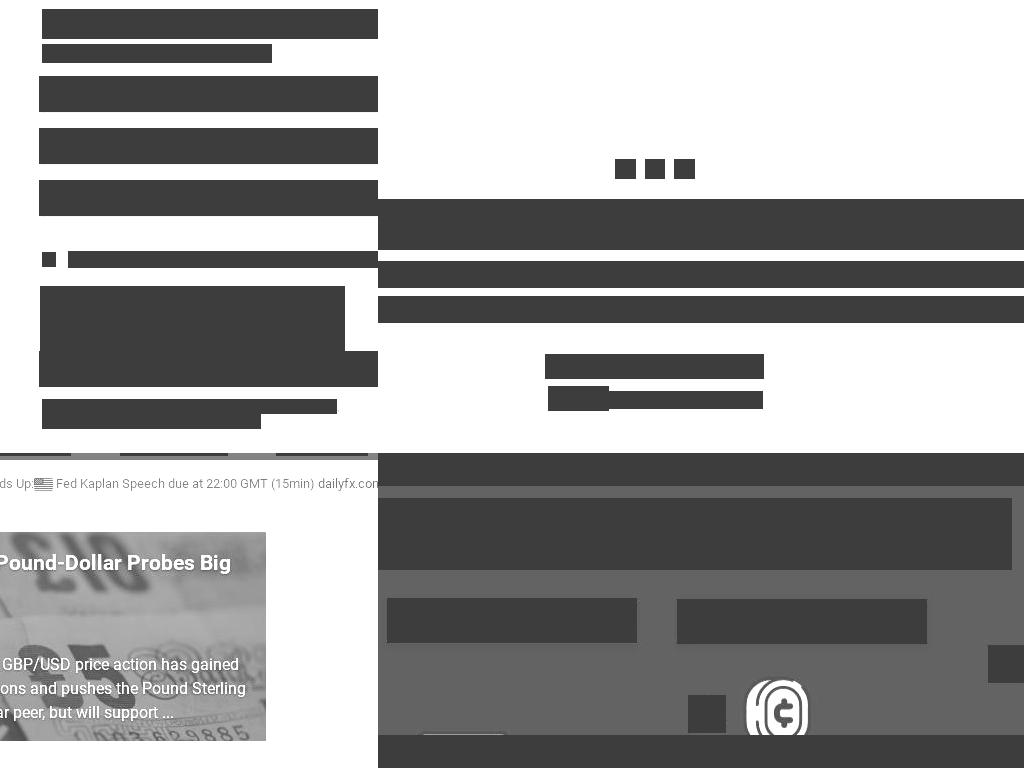button: (0, 532, 266, 741), (0, 460, 378, 508), (39, 351, 378, 387), (677, 599, 927, 644)
field: (39, 76, 378, 112), (39, 128, 378, 164), (39, 180, 378, 216)
heading: (378, 199, 835, 250), (378, 453, 1024, 486), (833, 199, 1024, 250)
iframe: (40, 286, 345, 365)
image: (378, 735, 1024, 768), (737, 671, 817, 752), (418, 731, 508, 768), (688, 695, 726, 733), (988, 645, 1024, 683), (838, 745, 876, 768), (615, 159, 636, 179), (674, 159, 695, 179), (34, 474, 54, 495), (645, 159, 665, 179), (42, 252, 56, 267), (373, 190, 378, 208)
link: (0, 653, 250, 725), (0, 548, 250, 610), (0, 618, 250, 637), (691, 354, 764, 379), (142, 414, 258, 429), (253, 399, 337, 414), (42, 414, 113, 429), (225, 44, 272, 63)
text: (378, 498, 1012, 570), (378, 261, 1024, 288), (378, 296, 1024, 323), (387, 598, 637, 643), (677, 599, 927, 644), (42, 9, 378, 39), (68, 251, 378, 268), (53, 475, 319, 491), (545, 354, 692, 379), (42, 44, 225, 63), (42, 399, 253, 414), (608, 391, 763, 409), (548, 386, 609, 411), (0, 475, 34, 491), (113, 414, 142, 429), (337, 399, 343, 414), (258, 414, 261, 429)
